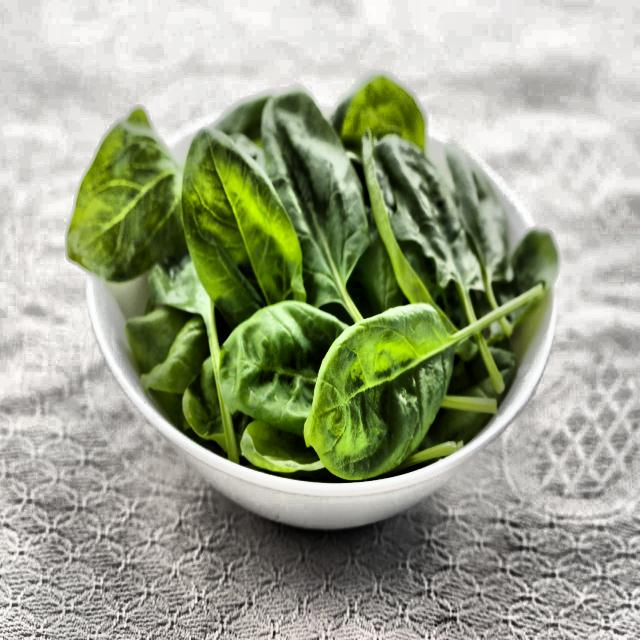spinach: (94, 104, 562, 496)
